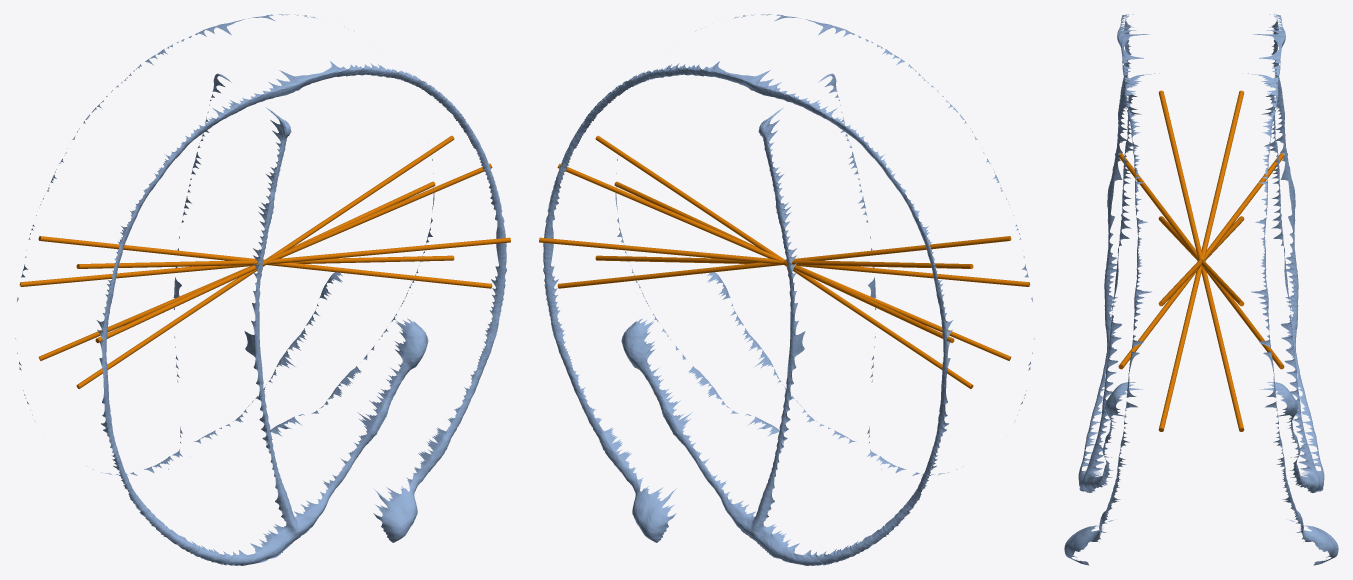
Rendered from A60025769_6150-37-520-1798_DigitalTwin.glb.
3 renders of one model, left to right at view 1: azimuth 30°, elevation 25°; view 2: azimuth 150°, elevation 25°; view 3: azimuth 270°, elevation 25°, orthographic. The views are drawn at different scales.
Visible parts, largest first — view 1: world; view 2: world; view 3: world.
Part boxes in pixels (x1,y1,x2,y2): world: (15, 14, 510, 565); world: (539, 14, 1034, 565); world: (1064, 14, 1338, 565).
Size of the model in its own units: 387 by 414 by 212.
